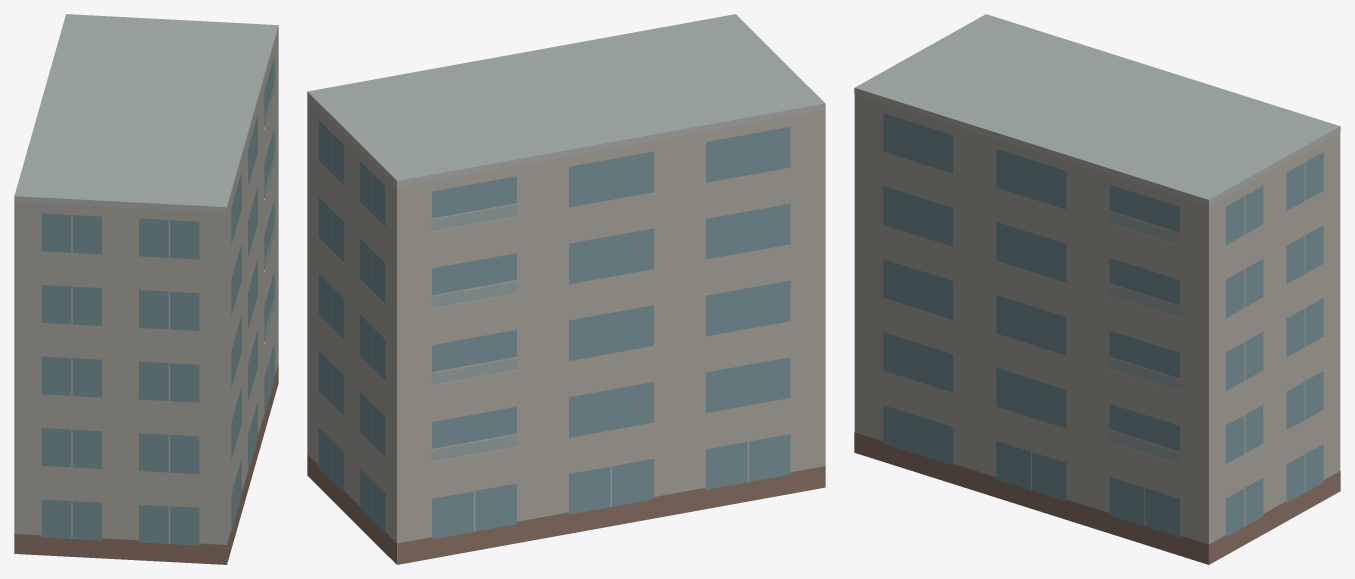
Rendered from survey-upis-32631564.glb.
3 renders of one model, left to right at view 1: azimuth 30°, elevation 25°; view 2: azimuth 150°, elevation 25°; view 3: azimuth 270°, elevation 25°, orthographic. The views are drawn at different scales.
Parts seen in each view (by area): view 1: survey-upis-32631564.tmp; view 2: survey-upis-32631564.tmp; view 3: survey-upis-32631564.tmp.
Part boxes in pixels (x1,y1,x2,y2): survey-upis-32631564.tmp: (14, 14, 278, 564); survey-upis-32631564.tmp: (307, 14, 825, 564); survey-upis-32631564.tmp: (854, 14, 1340, 564).
Bounding box in the file's own units: 16.67 × 15.25 × 18.41.
